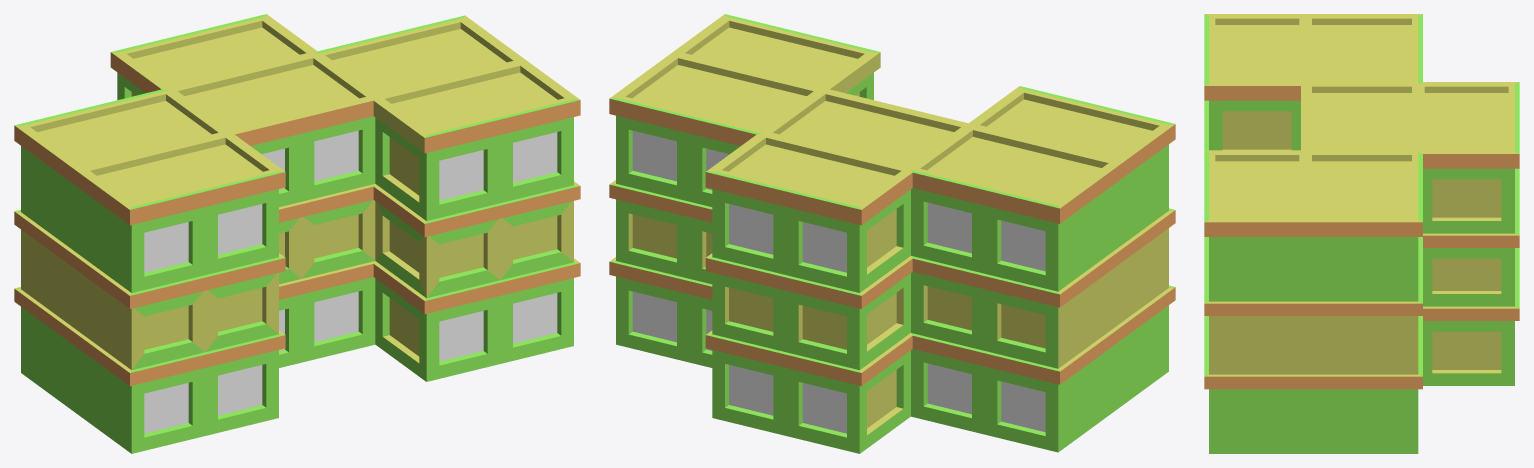
Rendered from Sekolah.1.fbx.
The picture shows the model from 3 angles, left to right: view 1: azimuth 30°, elevation 25°; view 2: azimuth 150°, elevation 25°; view 3: azimuth 270°, elevation 25°; orthographic projection. The views are drawn at different scales.
Visible parts, largest first — view 1: Cube.118; view 2: Cube.118; view 3: Cube.118.
Boxes of the visible parts, bbox=[...] form: Cube.118: bbox=[14, 14, 580, 453]; Cube.118: bbox=[609, 14, 1175, 453]; Cube.118: bbox=[1204, 14, 1519, 453].
Bounding box in the file's own units: 2518 × 1318 × 1612.
